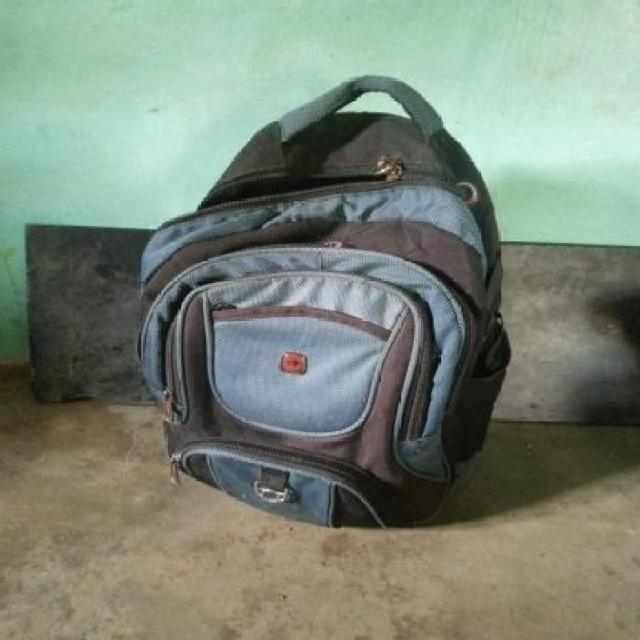backpack: (134, 72, 514, 534)
